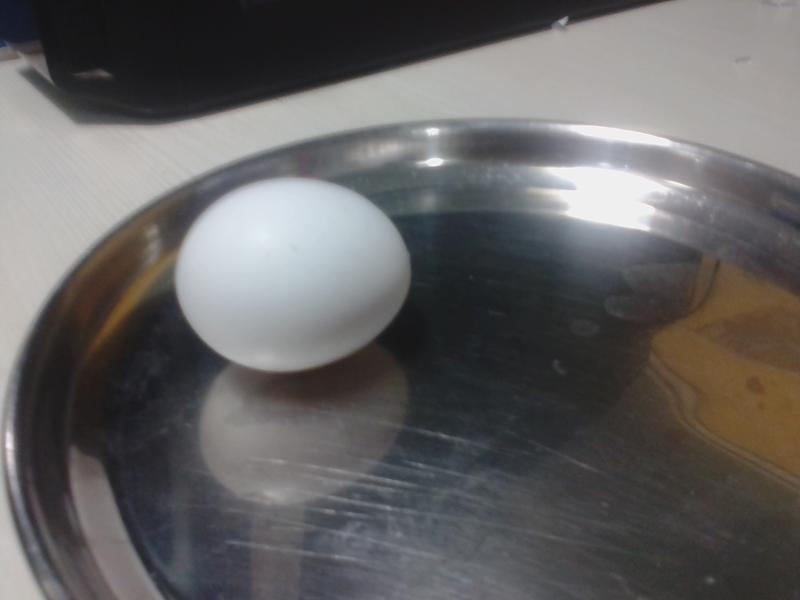egg: (173, 177, 405, 373)
